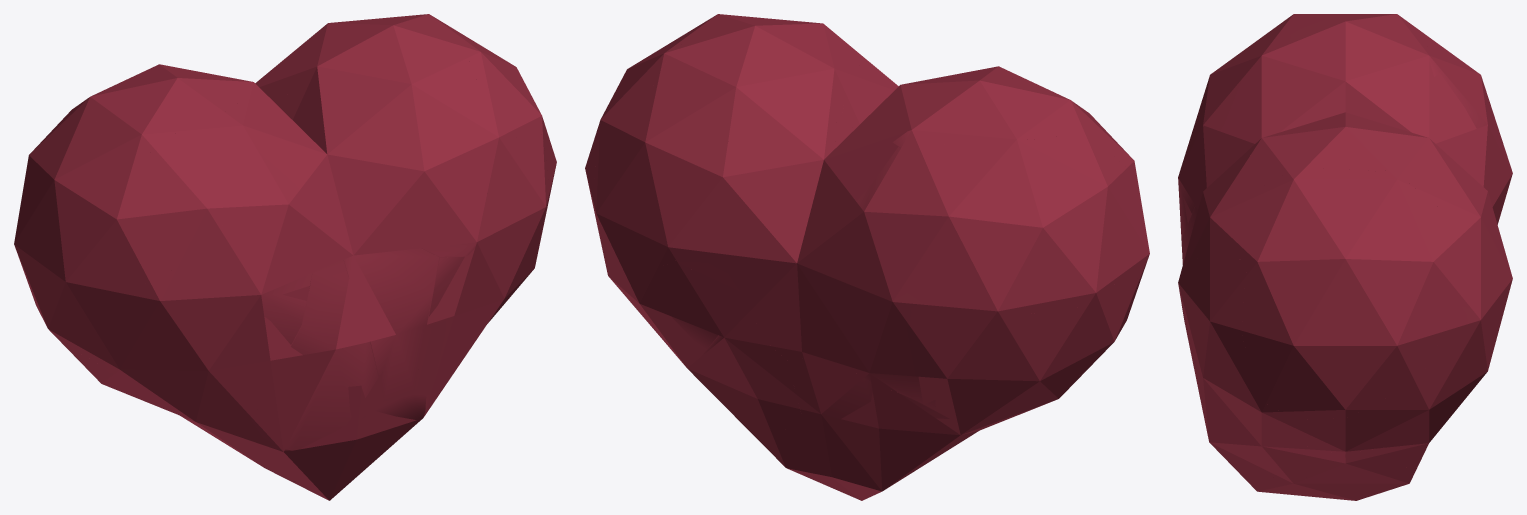
Rendered from heart.glb.
The picture shows the model from 3 angles, left to right: view 1: azimuth 30°, elevation 25°; view 2: azimuth 150°, elevation 25°; view 3: azimuth 270°, elevation 25°; orthographic projection. The views are drawn at different scales.
Parts seen in each view (by area): view 1: origin, Heart_Full_cell.005, Heart_Full_cell.020, Heart_Full_cell.051, Heart_Full_cell.056, Heart_Full_cell.038, Heart_Full_cell.037, Heart_Full_cell.008, Heart_Full_cell.036, Heart_Full_cell.021, Heart_Full_cell.007, Heart_Full_cell.043 (+9 smaller); view 2: origin, Heart_Full_cell.021, Heart_Full_cell.002, Heart_Full_cell.055, Heart_Full_cell.027, Heart_Full_cell.007, Heart_Full_cell.013, Heart_Full_cell.054, Heart_Full_cell.057, Heart_Full_cell.029, Heart_Full_cell.036, Heart_Full_cell.044 (+5 smaller); view 3: origin, Heart_Full_cell.017, Heart_Full_cell.050, Heart_Full_cell.044, Heart_Full_cell.043, Heart_Full_cell.036, Heart_Full_cell.028, Heart_Full_cell.011, Heart_Full_cell.045, Heart_Full_cell.008, Heart_Full_cell.057, Heart_Full_cell.015 (+13 smaller).
Part boxes in pixels (x1,y1,x2,y2): origin: [14, 15, 550, 500]; Heart_Full_cell.005: [251, 252, 383, 450]; Heart_Full_cell.020: [87, 160, 253, 281]; Heart_Full_cell.051: [351, 96, 516, 245]; Heart_Full_cell.056: [341, 240, 439, 401]; Heart_Full_cell.038: [145, 243, 314, 344]; Heart_Full_cell.037: [57, 258, 169, 371]; Heart_Full_cell.008: [141, 112, 304, 237]; Heart_Full_cell.036: [309, 17, 481, 109]; Heart_Full_cell.021: [14, 98, 111, 269]; Heart_Full_cell.007: [89, 72, 207, 161]; Heart_Full_cell.043: [492, 130, 549, 254]; origin: [590, 16, 1149, 500]; Heart_Full_cell.021: [980, 134, 1144, 314]; Heart_Full_cell.002: [831, 247, 935, 408]; Heart_Full_cell.055: [1007, 262, 1139, 402]; Heart_Full_cell.027: [694, 325, 802, 431]; Heart_Full_cell.007: [937, 77, 1092, 161]; Heart_Full_cell.013: [788, 358, 949, 453]; Heart_Full_cell.054: [670, 132, 804, 290]; Heart_Full_cell.057: [647, 46, 764, 147]; Heart_Full_cell.029: [660, 262, 756, 353]; Heart_Full_cell.036: [685, 15, 860, 82]; Heart_Full_cell.044: [590, 44, 684, 167]; origin: [1178, 17, 1512, 500]; Heart_Full_cell.017: [1241, 272, 1396, 420]; Heart_Full_cell.050: [1229, 167, 1376, 283]; Heart_Full_cell.044: [1352, 169, 1459, 334]; Heart_Full_cell.043: [1185, 238, 1254, 393]; Heart_Full_cell.036: [1250, 112, 1402, 192]; Heart_Full_cell.028: [1375, 301, 1448, 390]; Heart_Full_cell.011: [1304, 391, 1419, 454]; Heart_Full_cell.045: [1286, 42, 1444, 98]; Heart_Full_cell.008: [1197, 26, 1289, 150]; Heart_Full_cell.057: [1382, 130, 1468, 207]; Heart_Full_cell.015: [1292, 467, 1416, 494].
Size of the model in its own units: 2.72 by 2.25 by 1.6.
